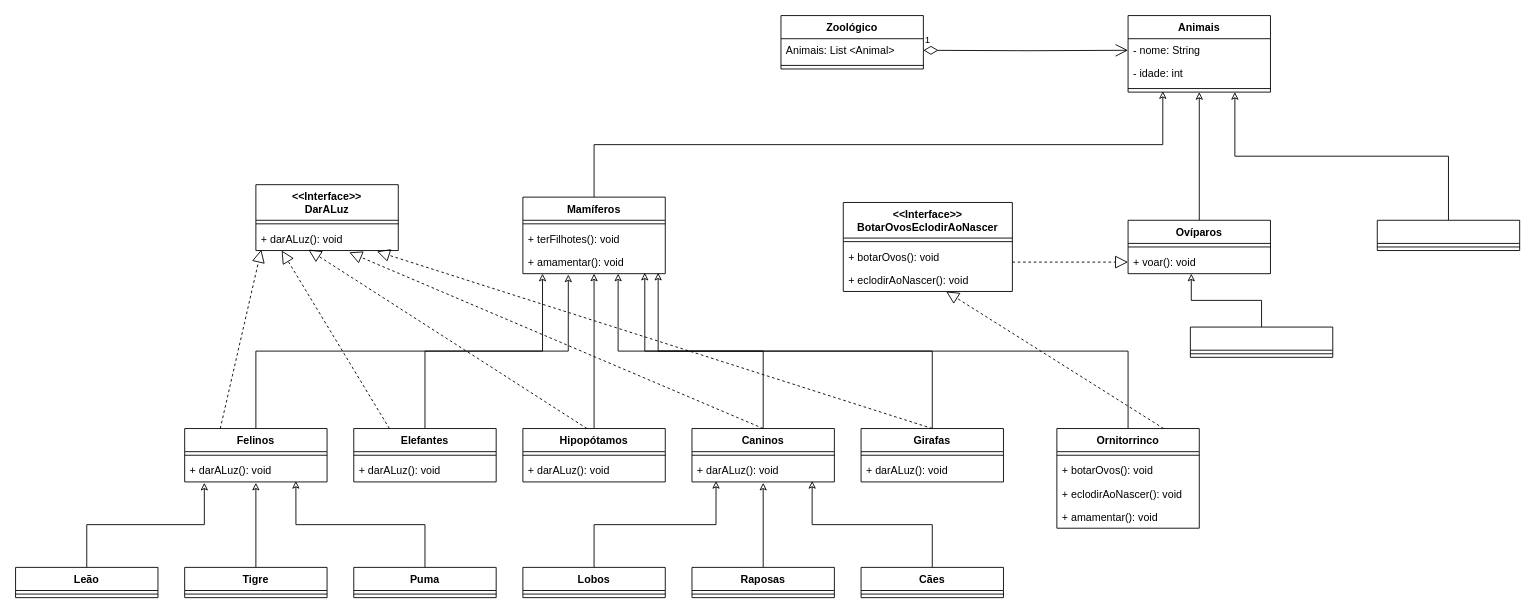
This 1535x613 diagram has some shape labels left out. The centre of each missing label's shape, as x and y in pixels:
"Peixes" goes at (x=1448, y=235).
"Pássaros" goes at (x=1261, y=341).
